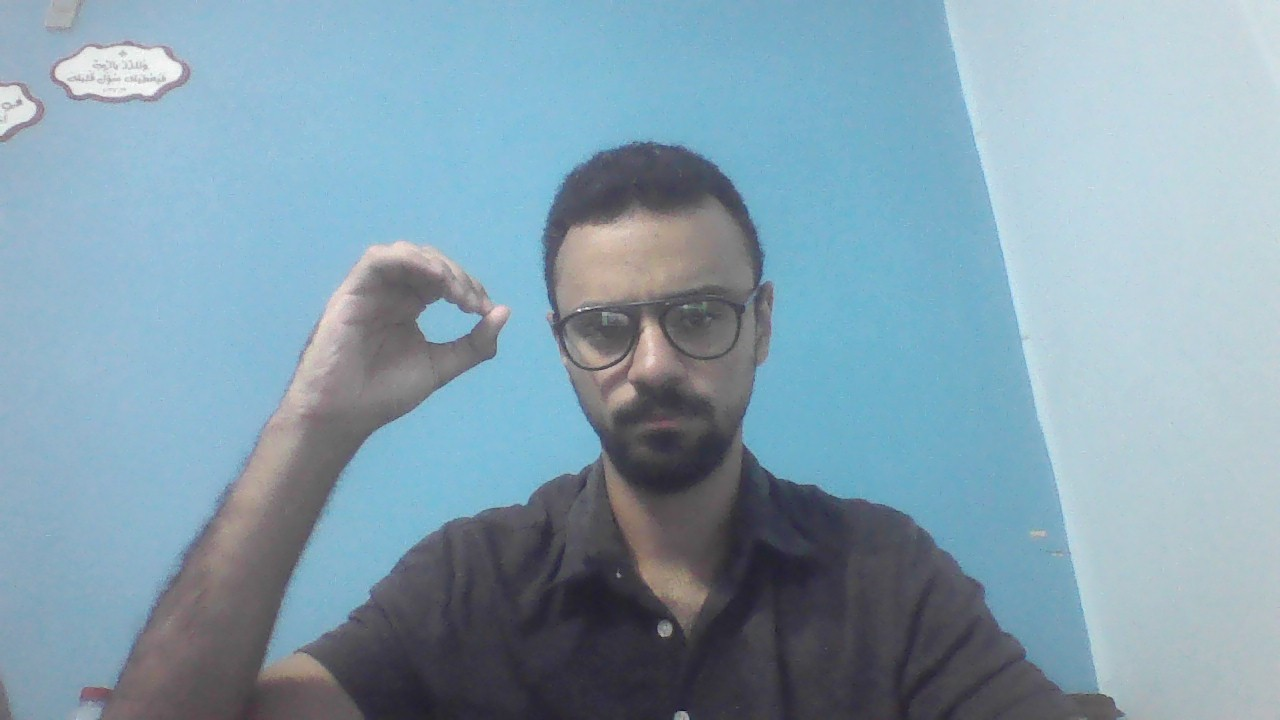okay: (305, 240, 508, 422)
